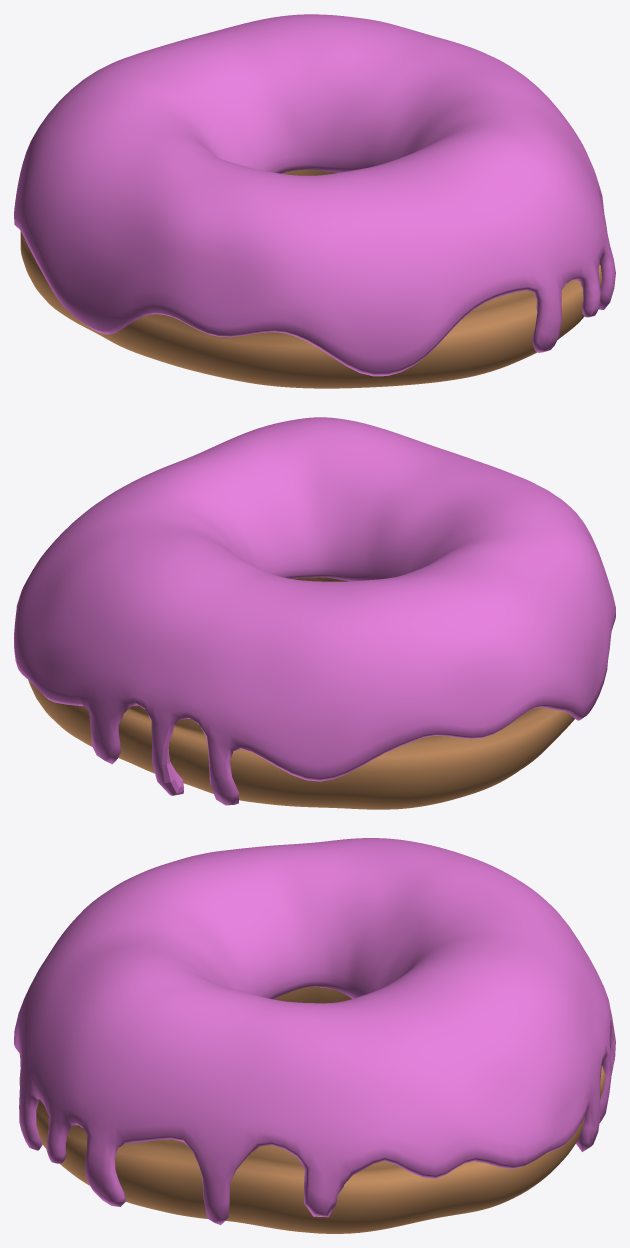
Rendered from donut.gltf.
The picture shows the model from 3 angles, top to bottom: view 1: azimuth 30°, elevation 25°; view 2: azimuth 150°, elevation 25°; view 3: azimuth 270°, elevation 25°; orthographic projection. The views are drawn at different scales.
Parts seen in each view (by area): view 1: Icing, Donut; view 2: Icing, Donut; view 3: Icing, Donut.
Boxes of the visible parts, bbox=[...] form: Icing: bbox=[14, 14, 615, 376]; Donut: bbox=[20, 169, 601, 388]; Icing: bbox=[14, 417, 615, 805]; Donut: bbox=[28, 577, 574, 809]; Icing: bbox=[14, 838, 615, 1225]; Donut: bbox=[19, 987, 605, 1233].
Bounding box in the file's own units: 0.1015 × 0.0377 × 0.0984.
